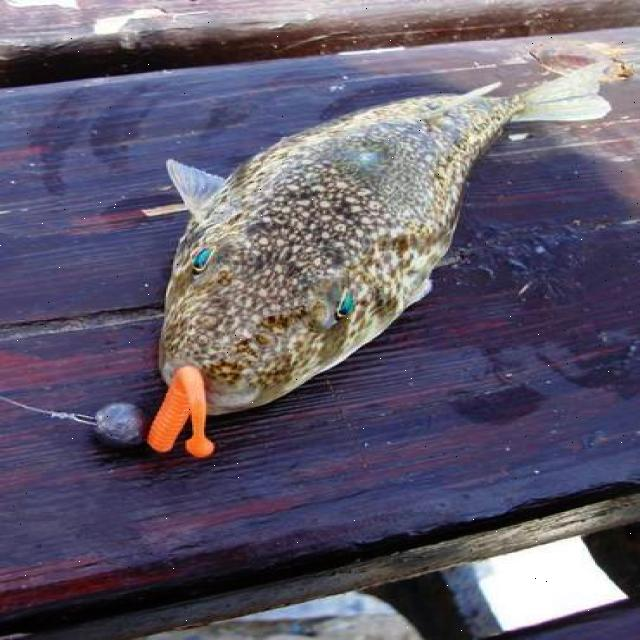Balik: (149, 64, 608, 455)
